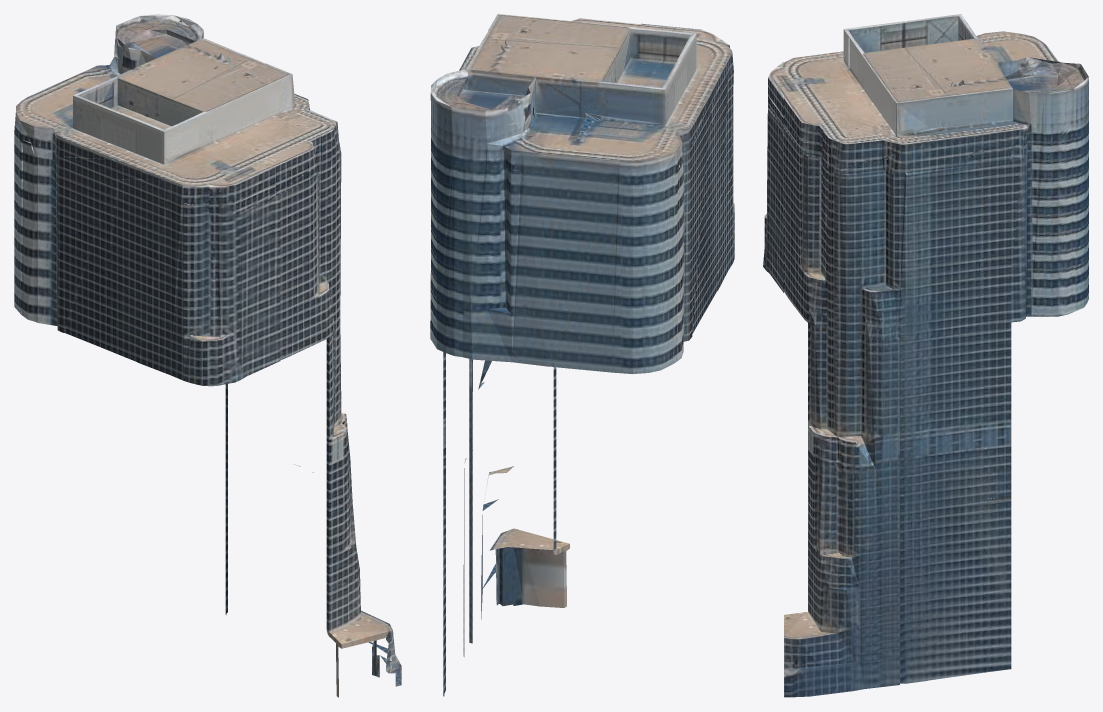
File: chunk_-1_4.glb
3 views of the same model, side by side, from view 1: azimuth 30°, elevation 25°; view 2: azimuth 150°, elevation 25°; view 3: azimuth 270°, elevation 25° (orthographic). The views are drawn at different scales.
Visible parts, largest first — view 1: hero-chunk; view 2: hero-chunk; view 3: hero-chunk.
Part boxes in pixels (x1,y1,x2,y2): hero-chunk: (14, 14, 401, 697); hero-chunk: (430, 14, 734, 696); hero-chunk: (763, 14, 1088, 697).
Size of the model in its own units: 58.16 by 121 by 62.14.
4 materials, 4 textured.
